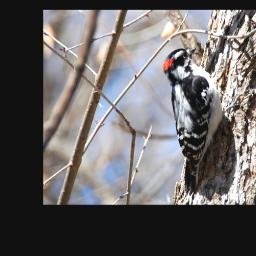Woodpecker: (160, 43, 225, 195)
